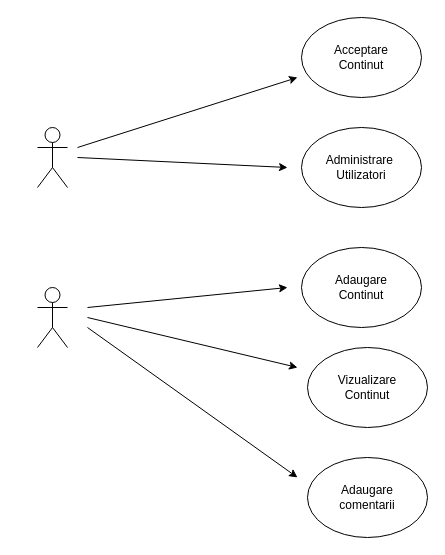
The diagram is 445 pixels wide and 555 high, and some of its shapes have lost their labels. Each missing label, with the centre of its shape:
"Administrator" belongs at [52,157].
"Utilizator" belongs at [52,317].
